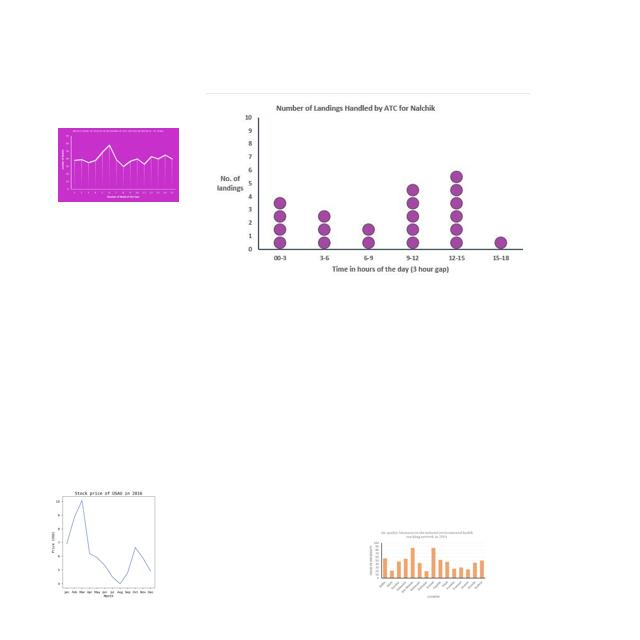Graph: (206, 93, 530, 283), (20, 482, 193, 601), (58, 128, 179, 202), (366, 529, 487, 600)
